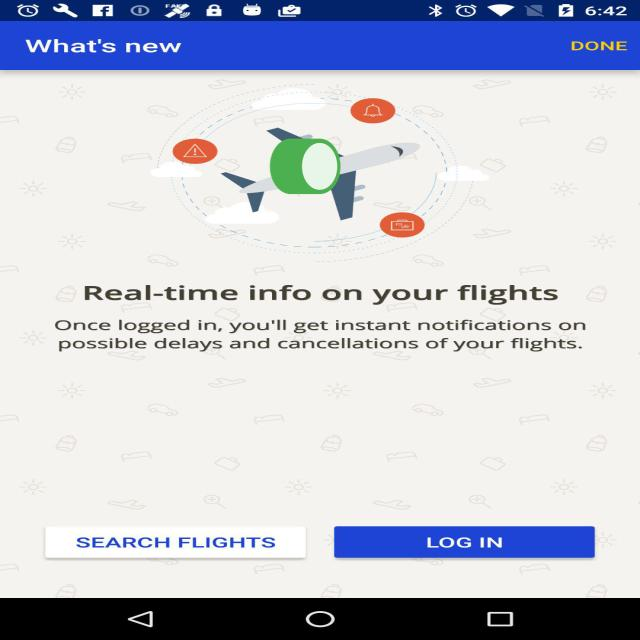social proof: (266, 117, 344, 220)
